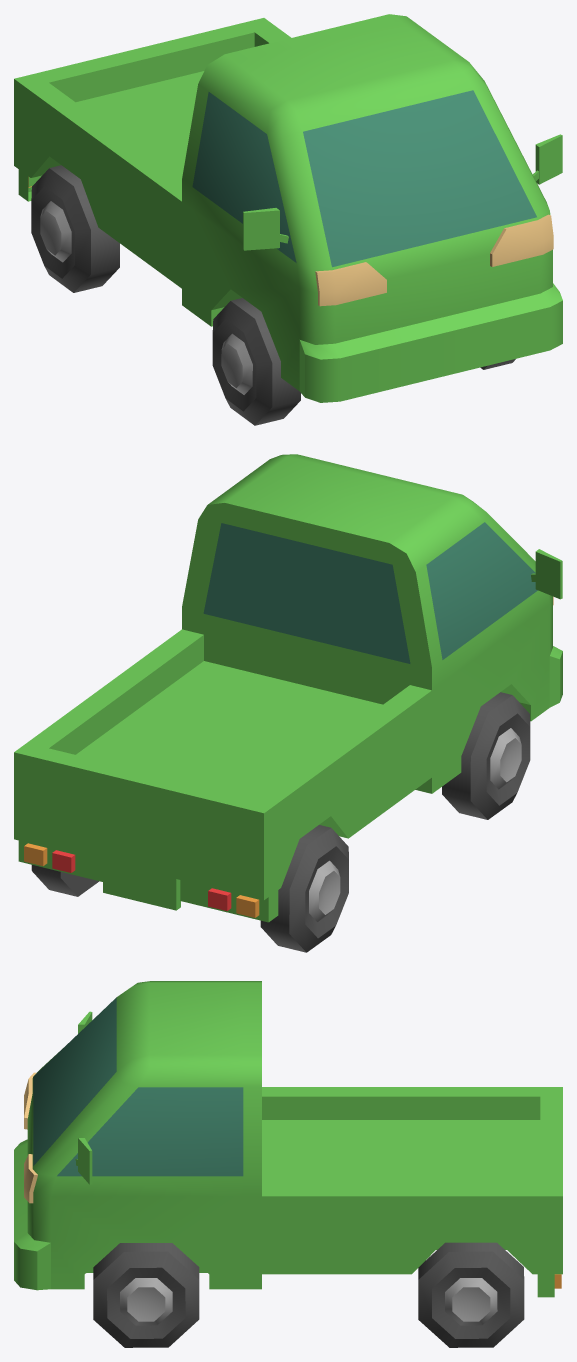
Rendered from Town_Vehicle_MiniTruck.FBX.
3 views of the same model, one above another, from view 1: azimuth 30°, elevation 25°; view 2: azimuth 150°, elevation 25°; view 3: azimuth 270°, elevation 25° (orthographic). The views are drawn at different scales.
Parts seen in each view (by area): view 1: Vehicle_MiniTruck; view 2: Vehicle_MiniTruck; view 3: Vehicle_MiniTruck.
Boxes of the visible parts, left/top/right/bottom form: Vehicle_MiniTruck: left=14, top=14, right=562, bottom=425; Vehicle_MiniTruck: left=14, top=454, right=562, bottom=952; Vehicle_MiniTruck: left=14, top=981, right=562, bottom=1347.
Size of the model in its own units: 119 by 108 by 198.
